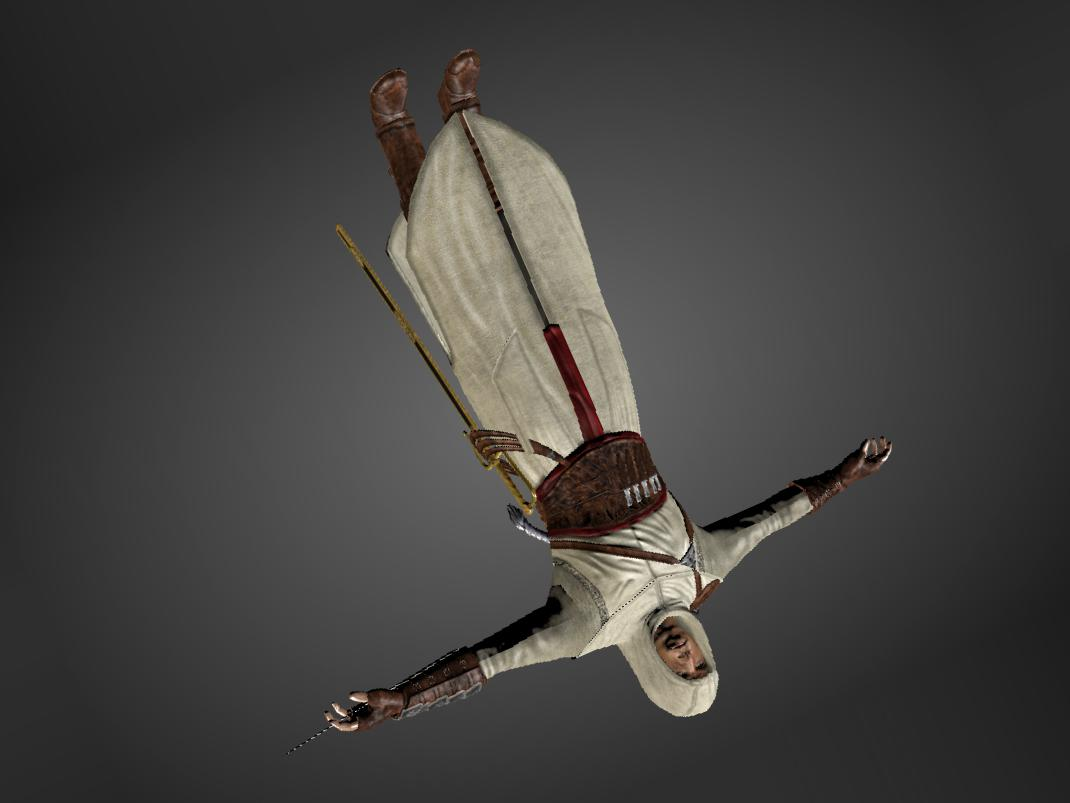clip: (504, 426, 542, 465)
